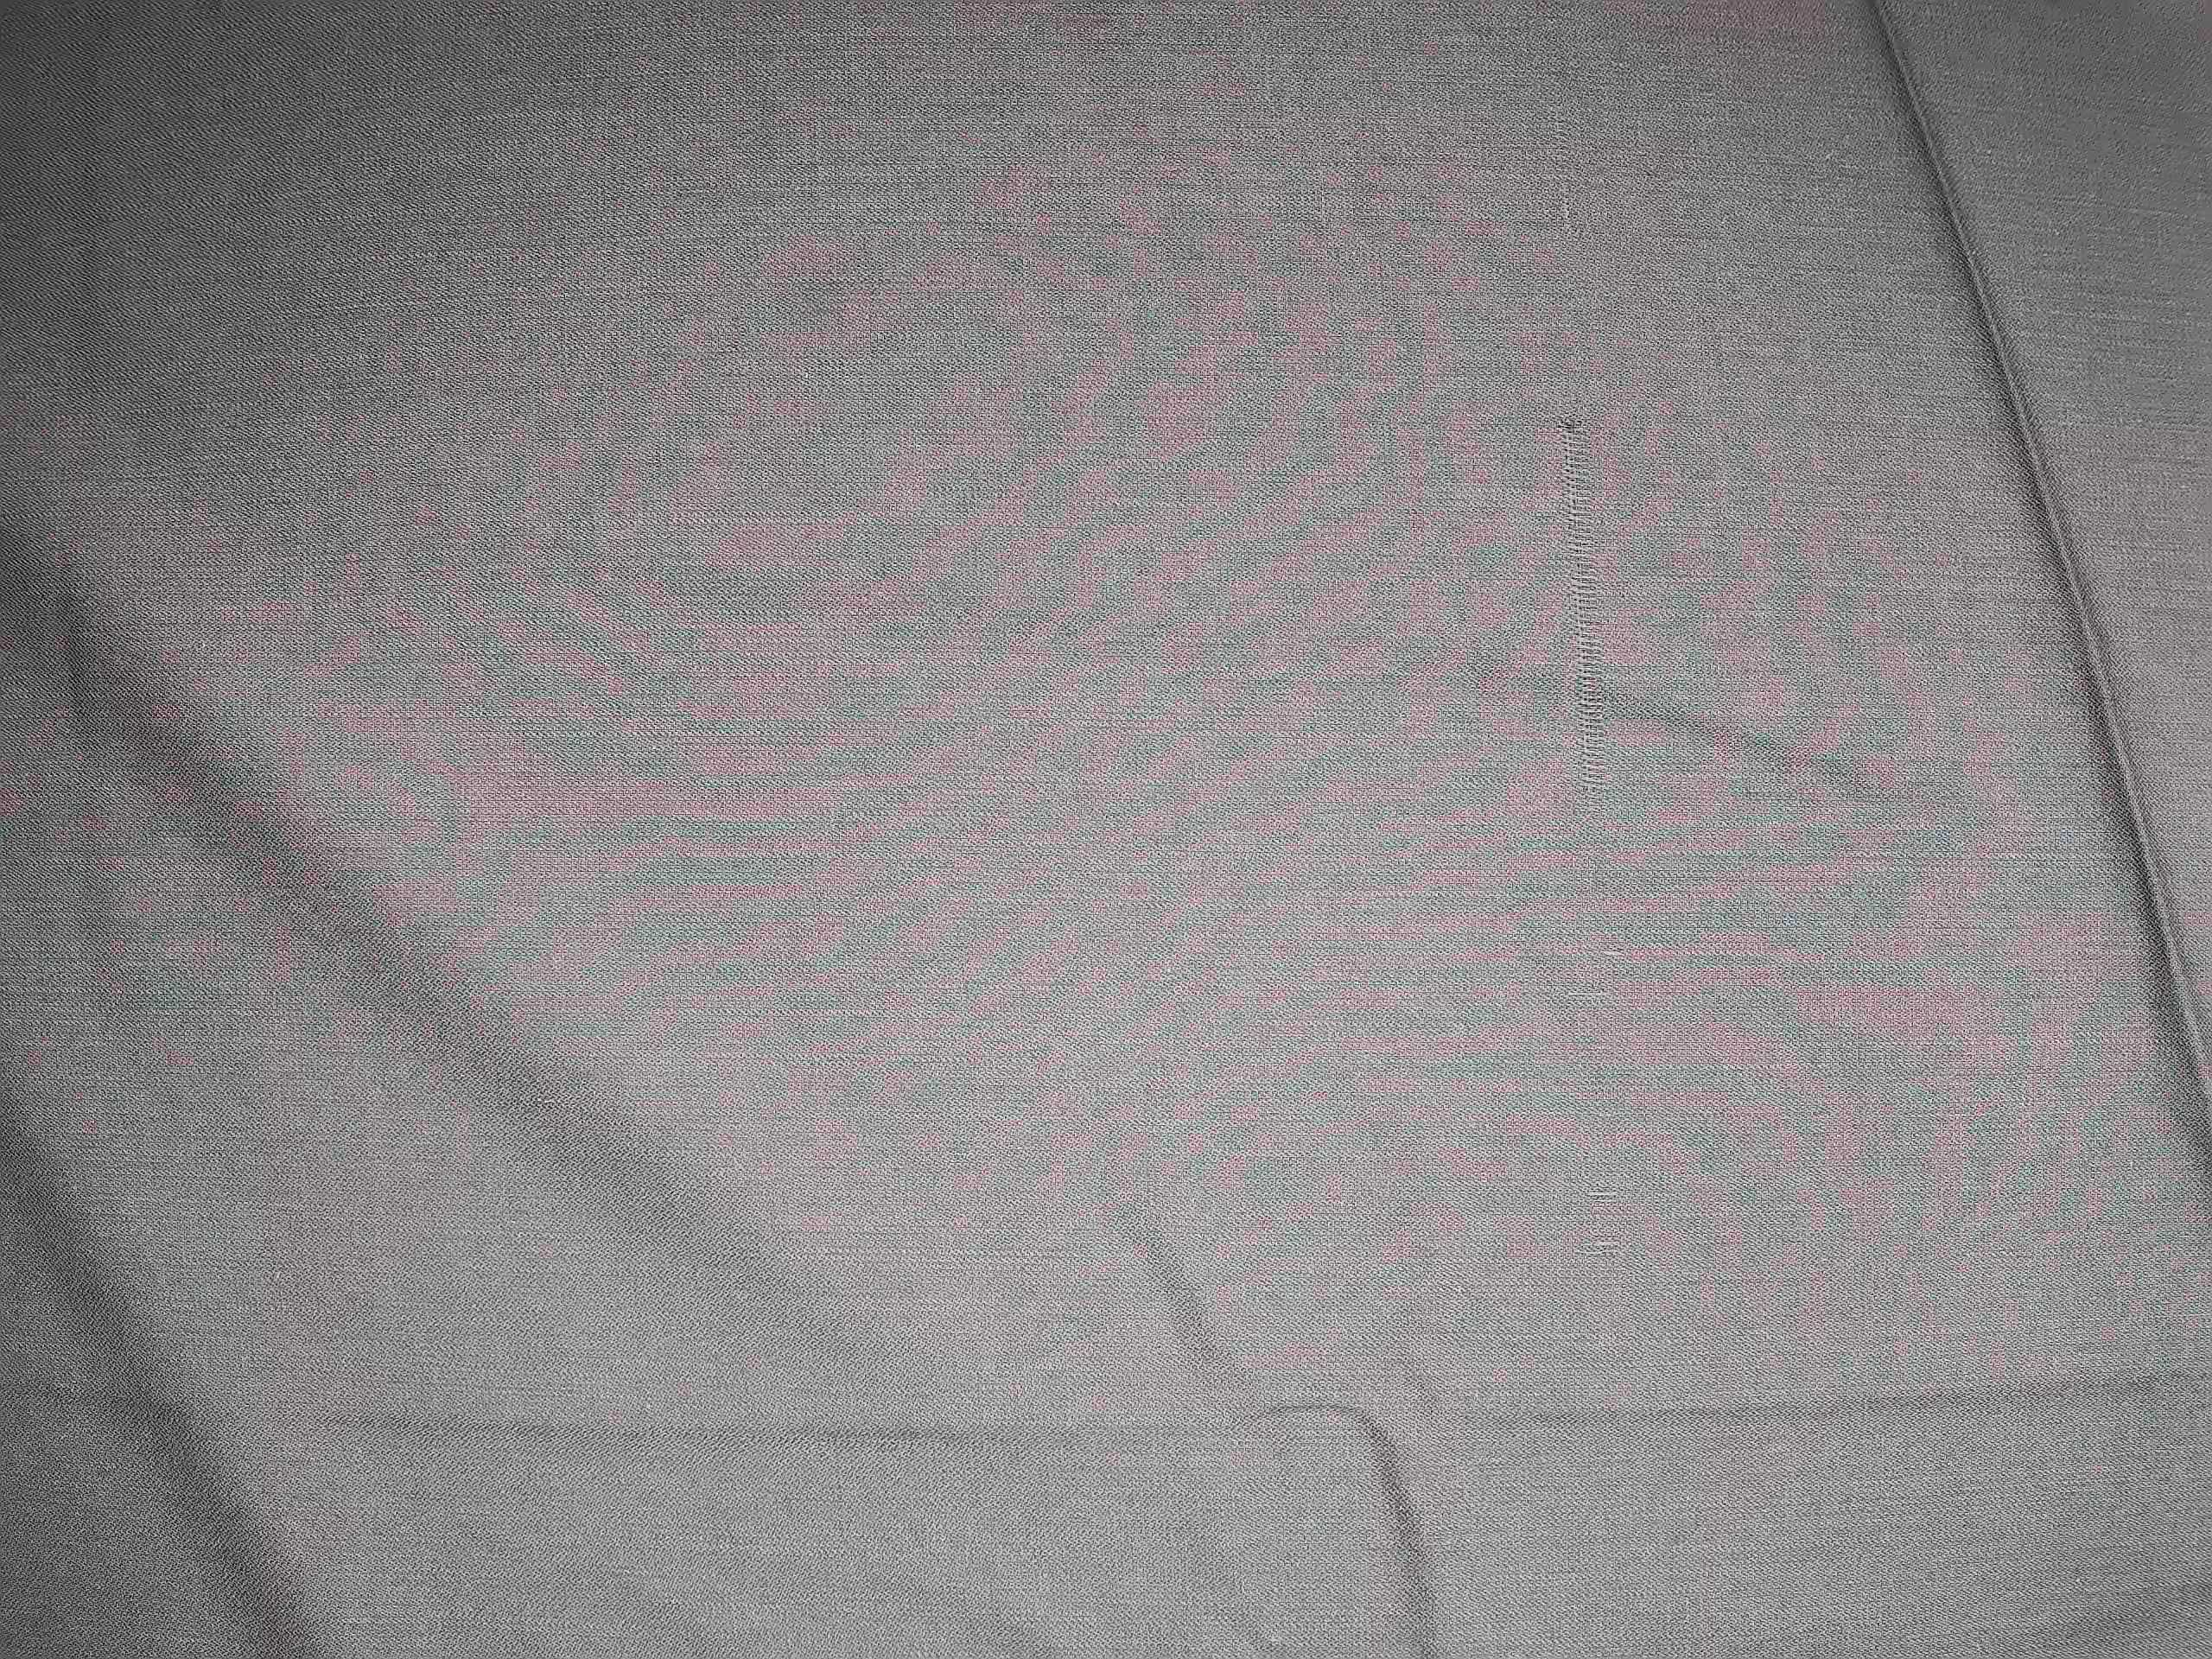jumps: (1571, 1166, 1641, 1270)
lacking-warp: (1536, 404, 1615, 1061), (1524, 19, 1595, 261)
